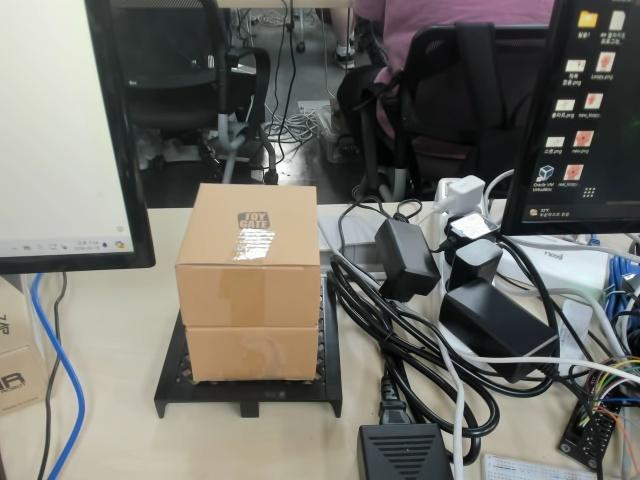box: (150, 181, 344, 421)
